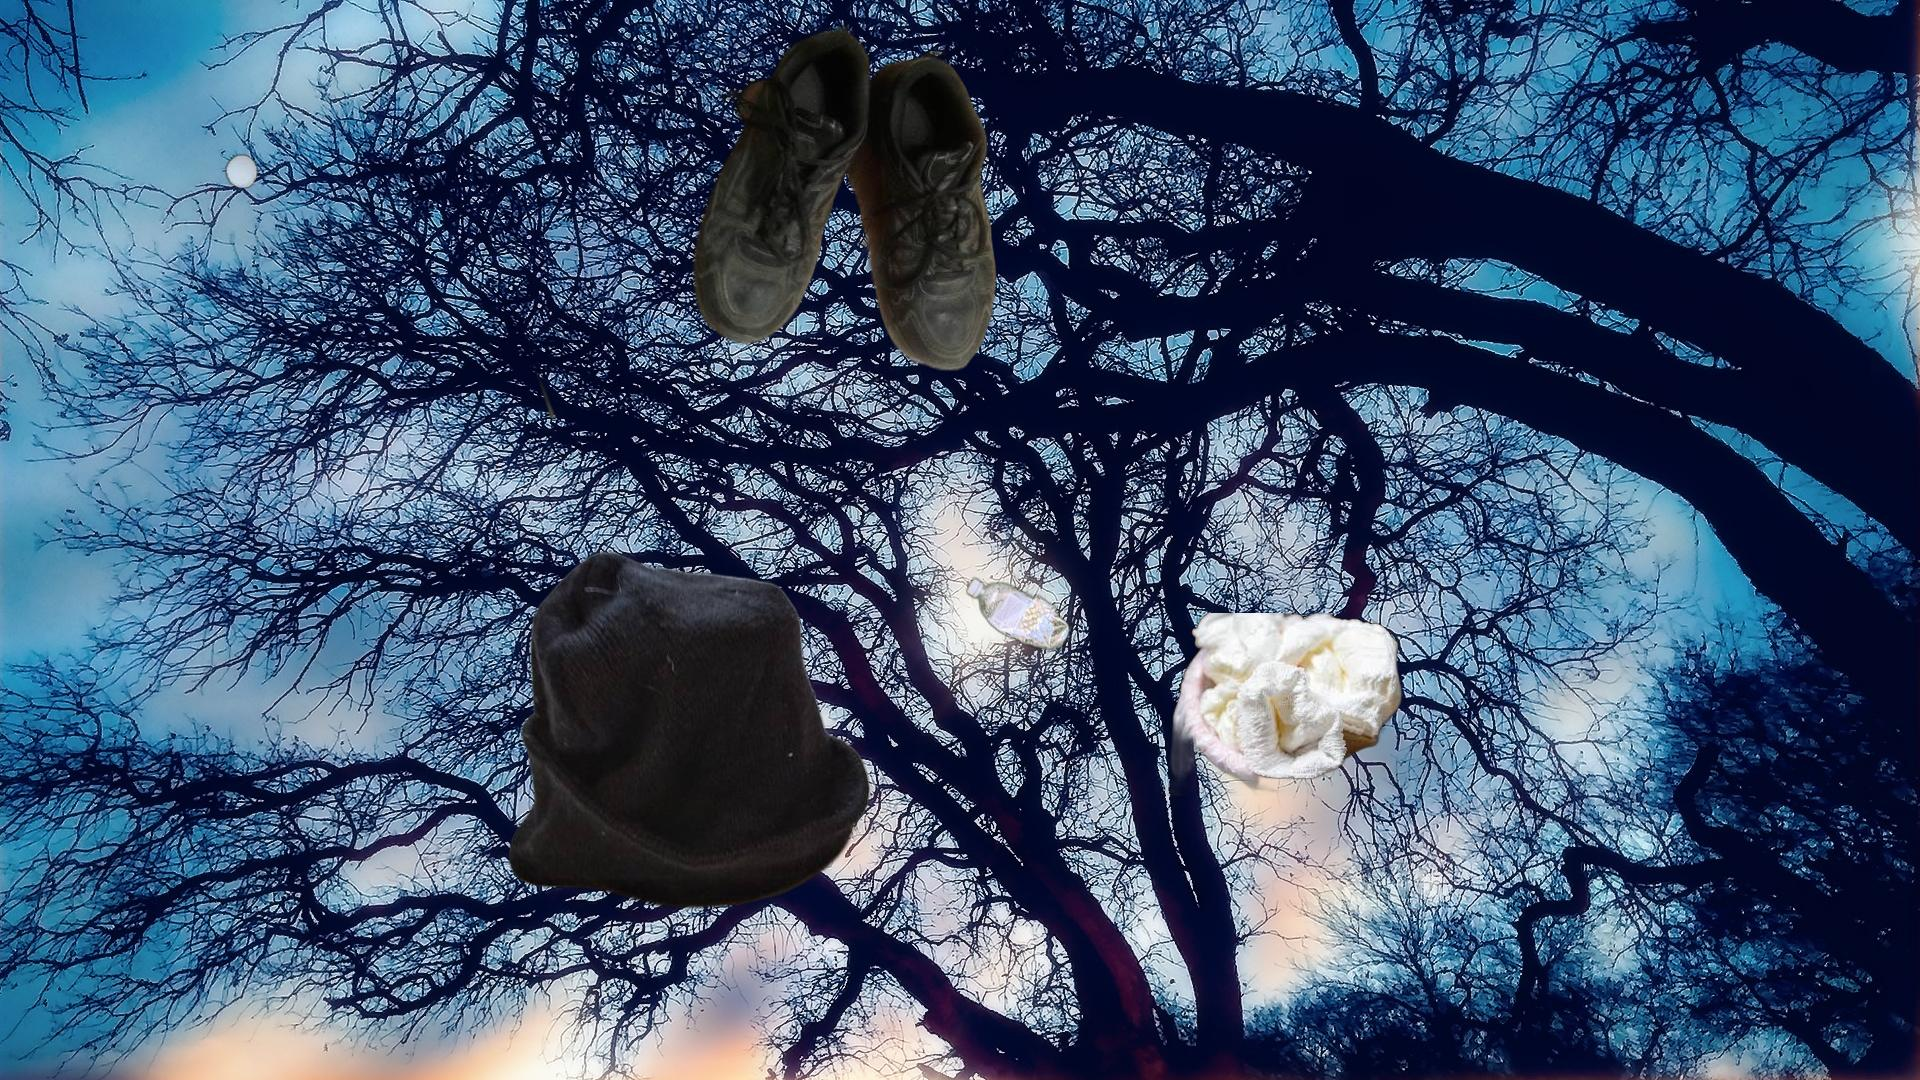clothes: (506, 549, 874, 913)
paper: (113, 146, 562, 418)
plastic-bottles: (963, 572, 1073, 655)
shoes: (688, 17, 1000, 378)
trash: (1162, 613, 1404, 796)
trashbox-cardboard: (222, 152, 262, 191)
